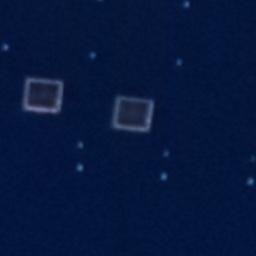square_cover: (16, 70, 68, 118), (107, 91, 158, 139)
